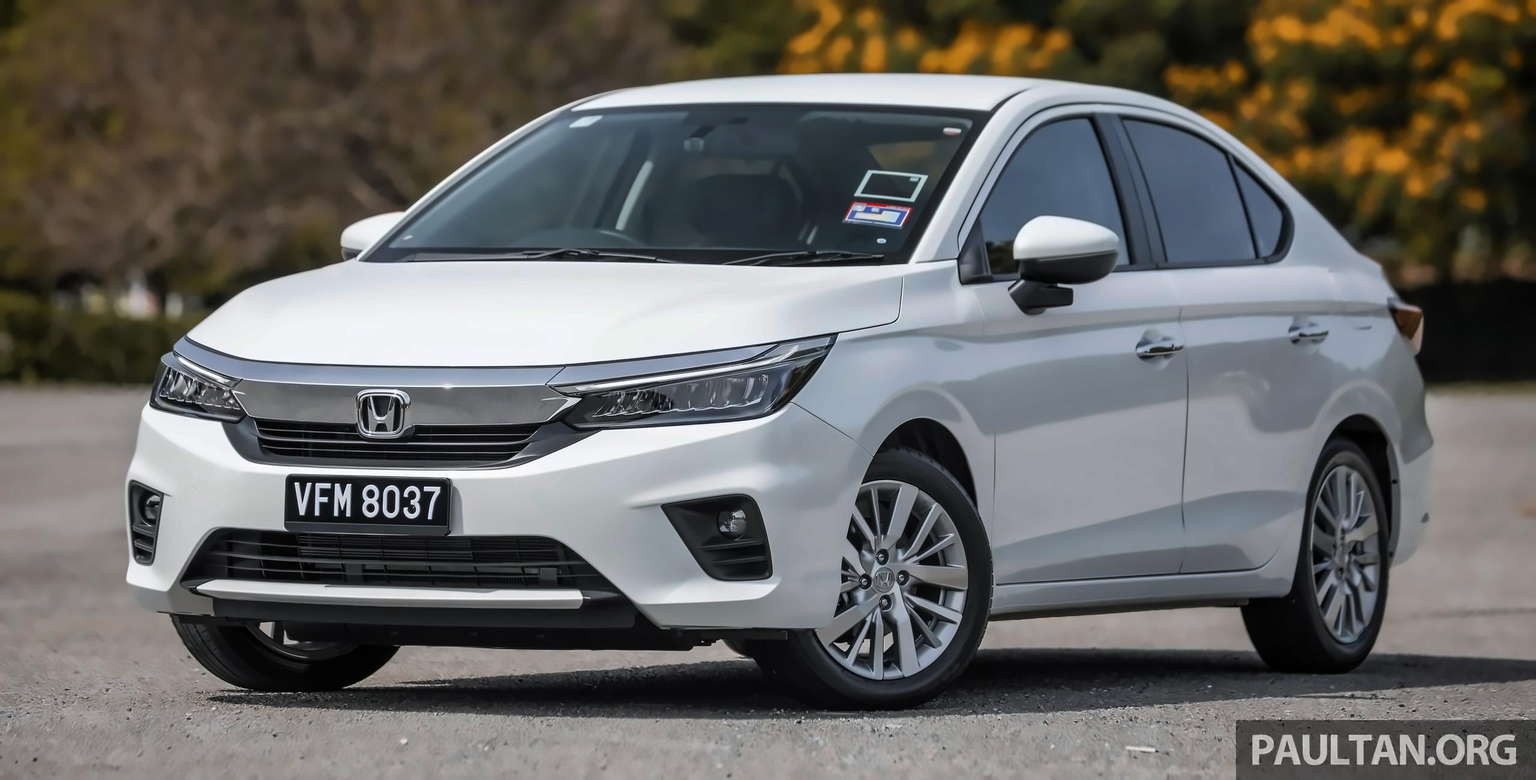Car hood: (178, 254, 909, 372)
Fender - -F-L-: (792, 254, 1020, 593)
Fender - -R-L-: (1320, 275, 1438, 467)
Front bumper: (122, 401, 876, 640)
Headlight - -L-: (540, 316, 843, 436)
Headlight - -R-: (138, 342, 262, 425)
Passenger-s door - -F-L-: (986, 92, 1189, 587)
Passenger-s door - -R-L-: (1162, 98, 1364, 576)
Rear bumper: (1374, 419, 1442, 576)
Rear light - -L-: (1376, 270, 1438, 363)
Side bumper - -L-: (983, 563, 1310, 622)
Side mirror - -L-: (1000, 204, 1129, 323)
Side mirror - -R-: (330, 198, 416, 267)
